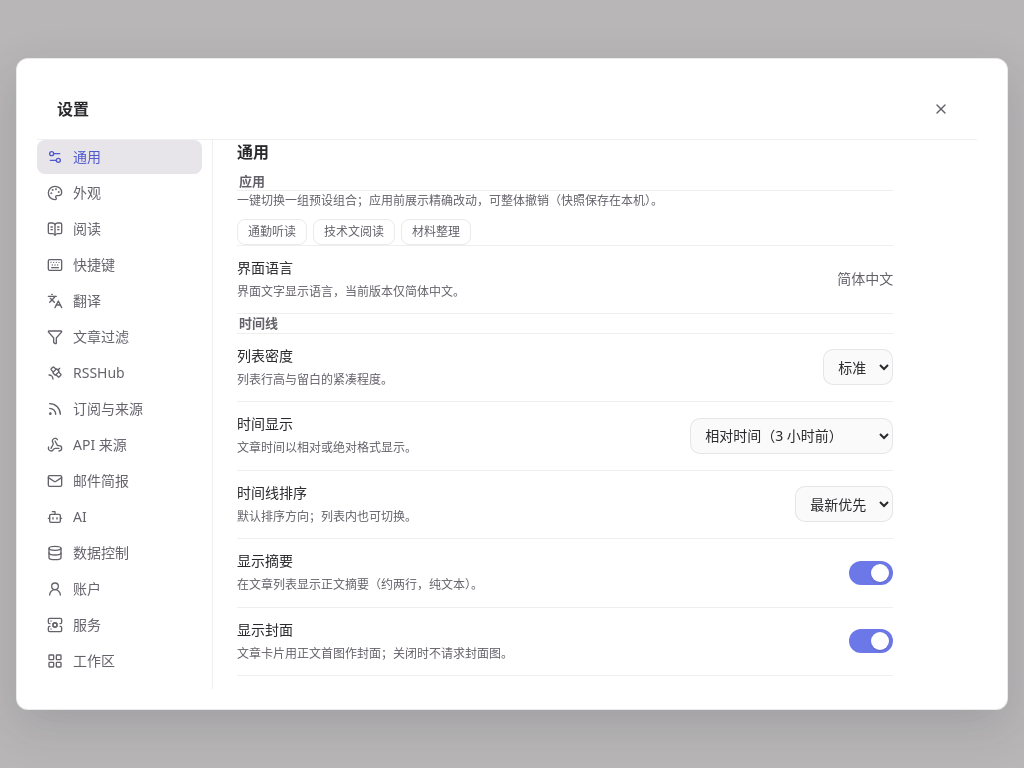
备份页（F5，AC26/AC27 纯函数层） › 备份页 UI（0018 升级）：概览/历史/WebDAV/配置迁移真实渲染
This screenshot has width=1024, height=768.
Click the button "数据控制" at (120, 553), box [37, 536, 202, 570]
(page scrolled)
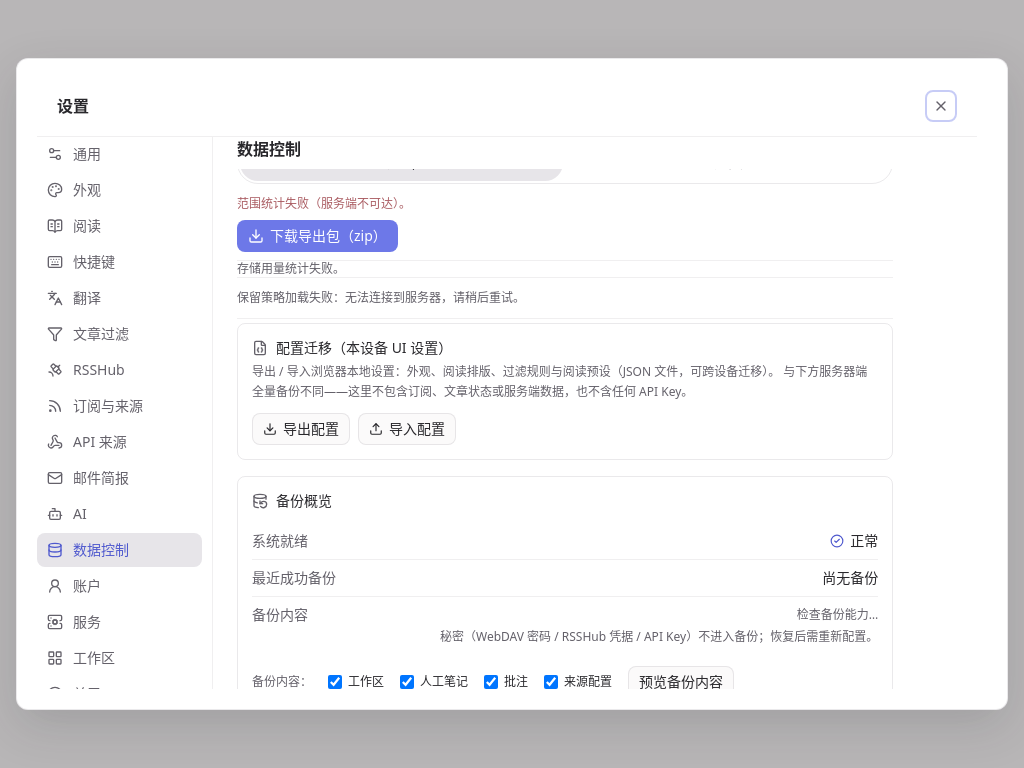
Expected: the heading "备份概览" is shown, [276, 491, 332, 511]
Expected: the heading "配置迁移（本设备 UI 设置）" is shown, [276, 338, 452, 358]
Expected: the button "导出配置" is enabled, [252, 413, 350, 445]
